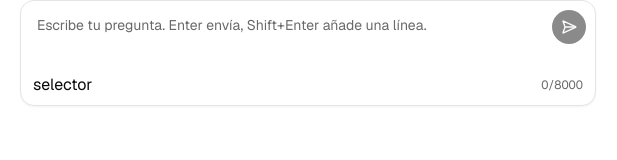
it: Composer › muestra siempre el contador y los controles de la fila inferior
Expected: the text with test id "char-count" reads "0/8000", [541,77,583,93]
Step 1. Type "hola" into the text box named "Mensaje" → (286, 37), box [29,9,543,65]
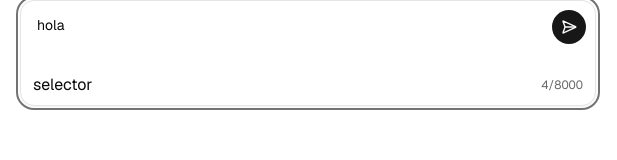
Expected: the text "selector" is shown, [33,74,92,95]
Now the text with test id "char-count" reads "4/8000", box [541,77,583,93]
